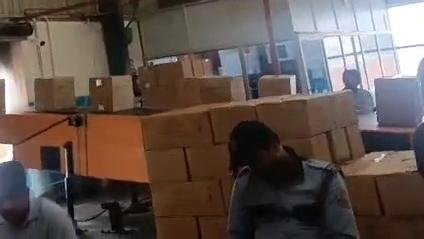box: (256, 95, 333, 138), (341, 152, 392, 215), (374, 151, 423, 216), (141, 106, 212, 149), (151, 181, 225, 216), (374, 77, 423, 126), (208, 102, 256, 143), (89, 76, 134, 112), (185, 144, 229, 180), (145, 148, 188, 183), (282, 133, 332, 161), (34, 77, 75, 110), (200, 76, 246, 103), (153, 62, 190, 89), (330, 90, 357, 127), (155, 217, 199, 238), (379, 217, 423, 238), (327, 128, 352, 164), (257, 75, 295, 96), (355, 216, 391, 238), (176, 77, 202, 107), (142, 87, 177, 108), (344, 125, 365, 159), (198, 216, 230, 238), (137, 66, 157, 90), (220, 177, 234, 211), (0, 79, 4, 110)
